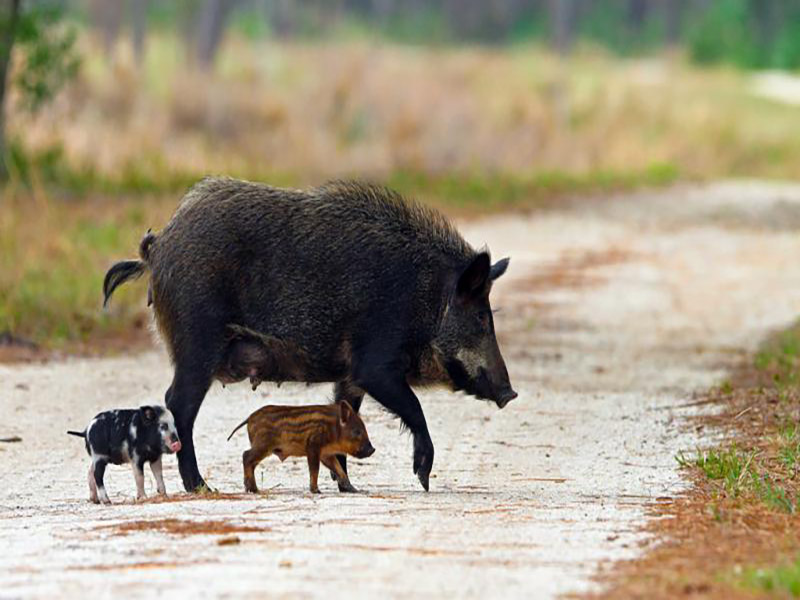cinghiale: (96, 177, 522, 402), (72, 395, 186, 504), (243, 413, 377, 491)
